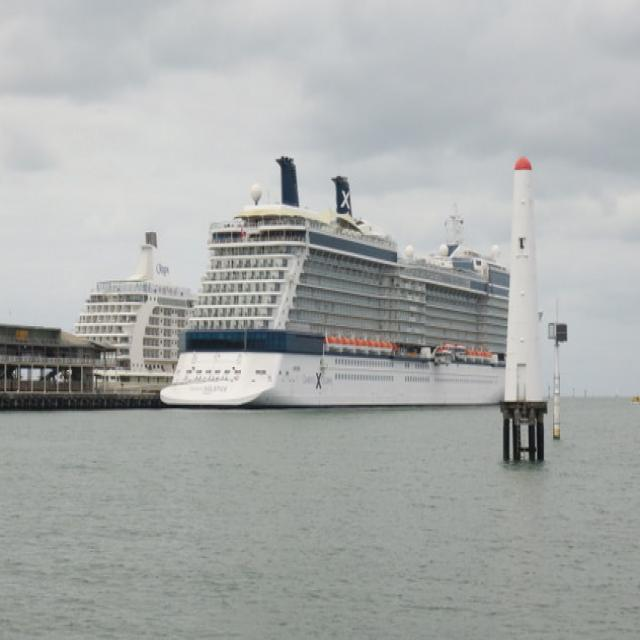passenger ship: (159, 183, 511, 410), (69, 228, 193, 388)
